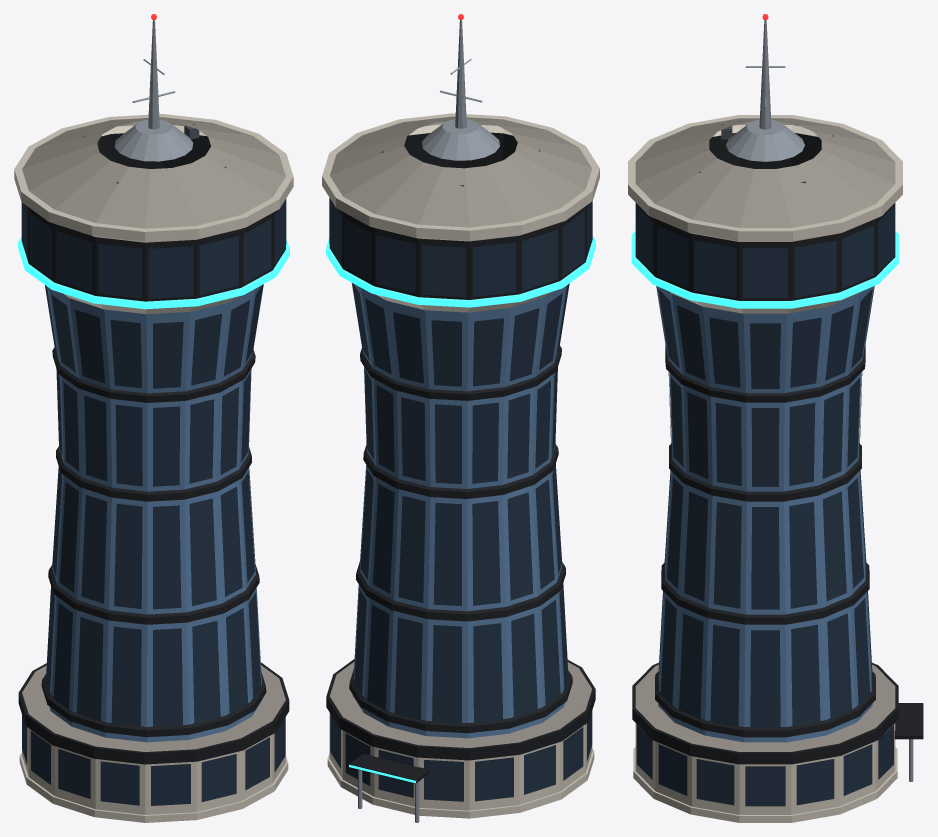
The model's file is tower_c.glb.
3 views of the same model, side by side, from view 1: azimuth 30°, elevation 25°; view 2: azimuth 150°, elevation 25°; view 3: azimuth 270°, elevation 25° (orthographic).
Visible parts, largest first — view 1: Body; view 2: Body; view 3: Body.
Boxes of the visible parts, <box> form: Body: <box>14,14,293,822</box>; Body: <box>322,14,599,822</box>; Body: <box>628,14,923,822</box>.
Size of the model in its own units: 24.91 by 75.3 by 26.82.
